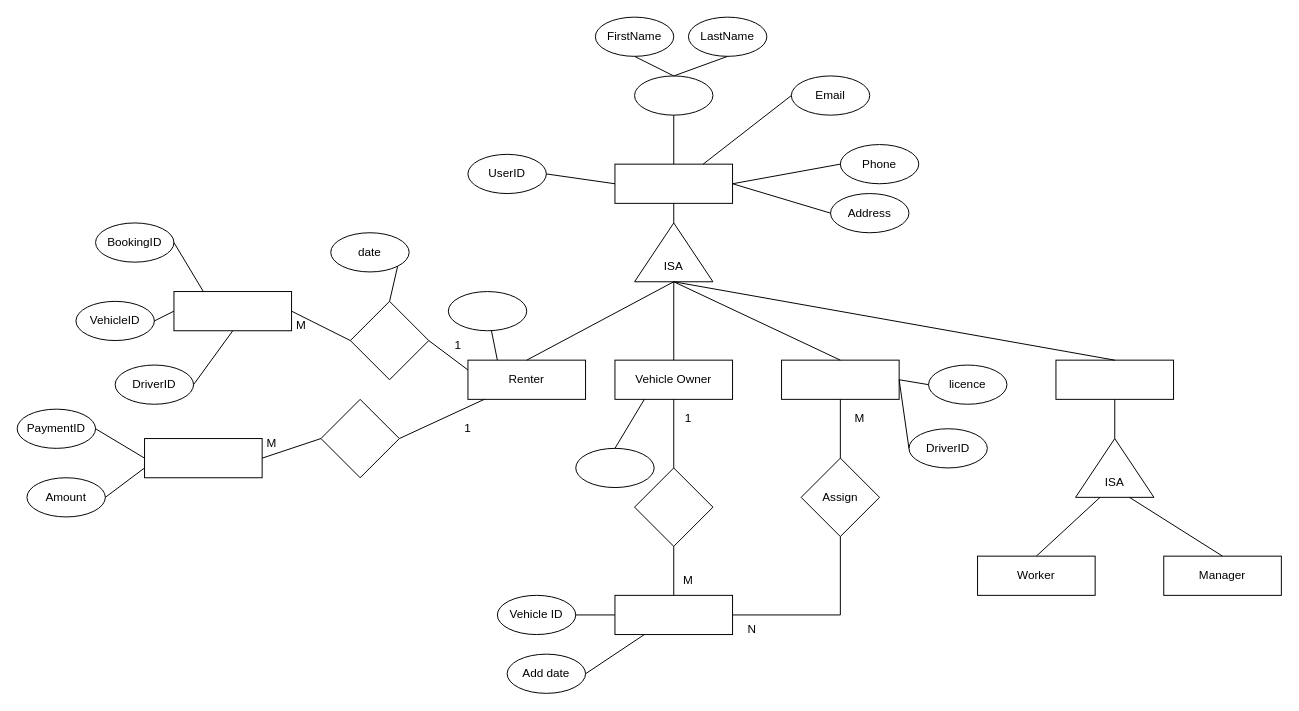
Some shapes in this 1299 by 711 pixel diagram are drawn without their labels. The shapes that lost their labels are listed below. From the top down, each one's centre as x and y in pixels, then its label:
At point (673, 95): "Name".
At point (673, 183): "User".
At point (232, 311): "Booking".
At point (487, 311): "RenterID".
At point (389, 340): "Place".
At point (840, 379): "Driver".
At point (1114, 379): "Employee".
At point (203, 458): "Payment".
At point (359, 438): "Make".
At point (614, 467): "OwnerID".
At point (673, 506): "Has".
At point (673, 614): "Vehicle".
